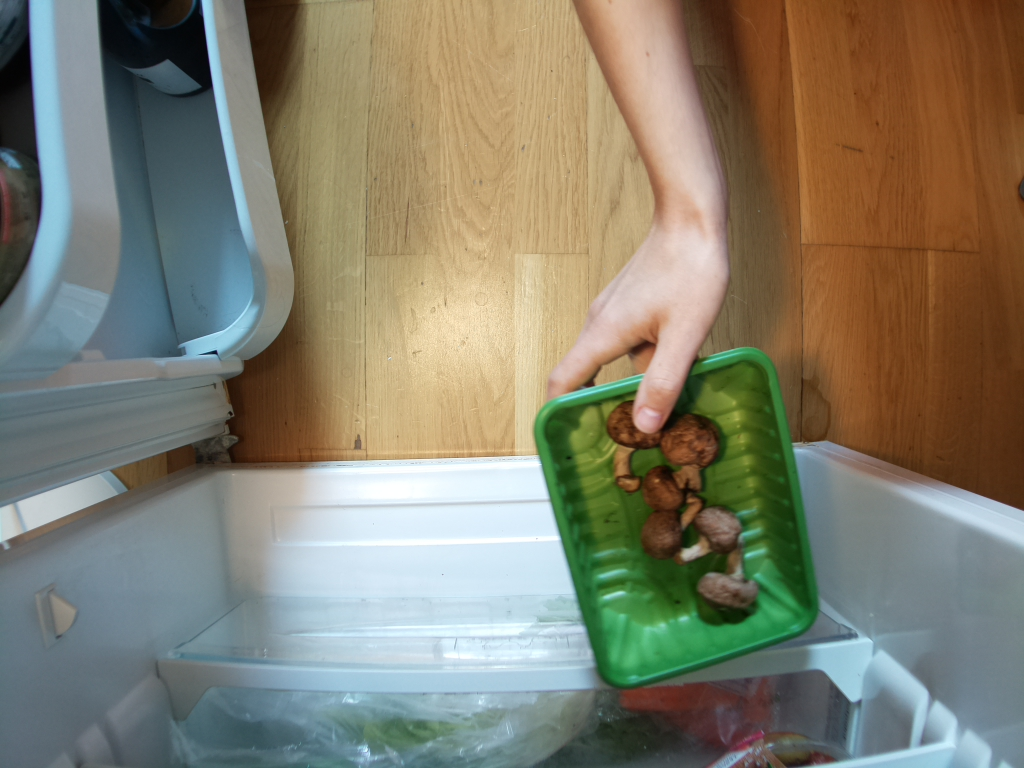mushrooms-bad: (532, 349, 822, 686)
